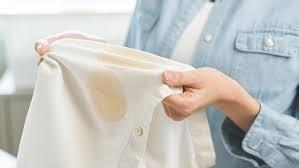coffee: (87, 70, 128, 120)
